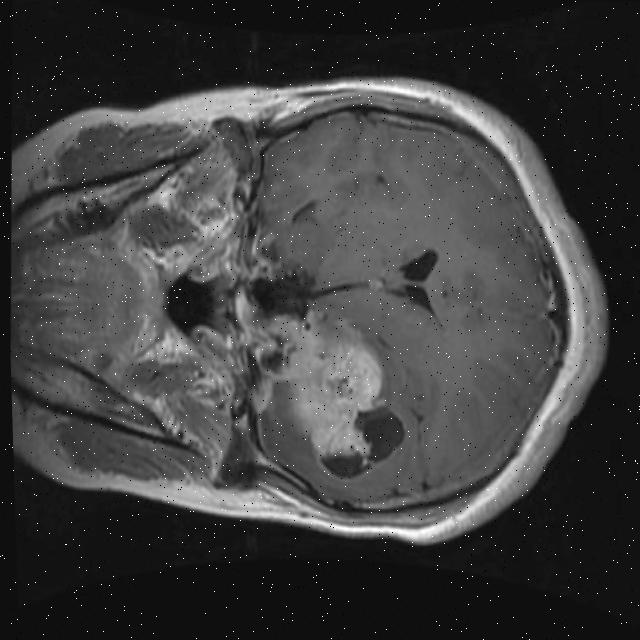Meningioma: (279, 313, 391, 462)
